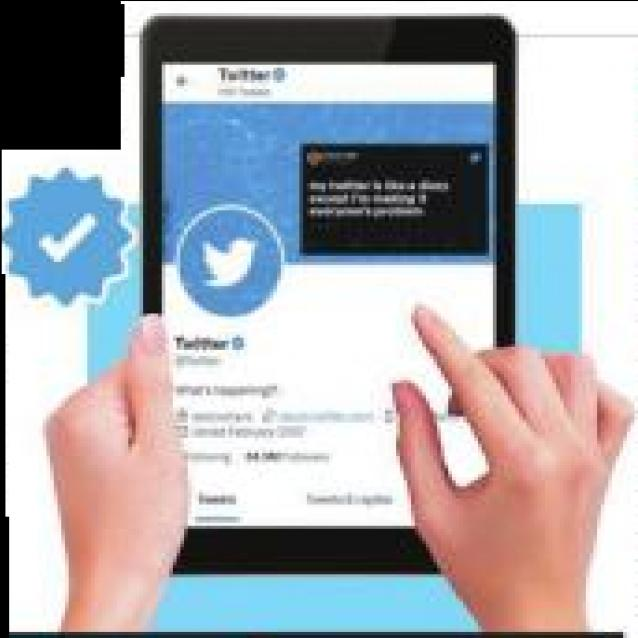paper: (1, 0, 638, 638)
